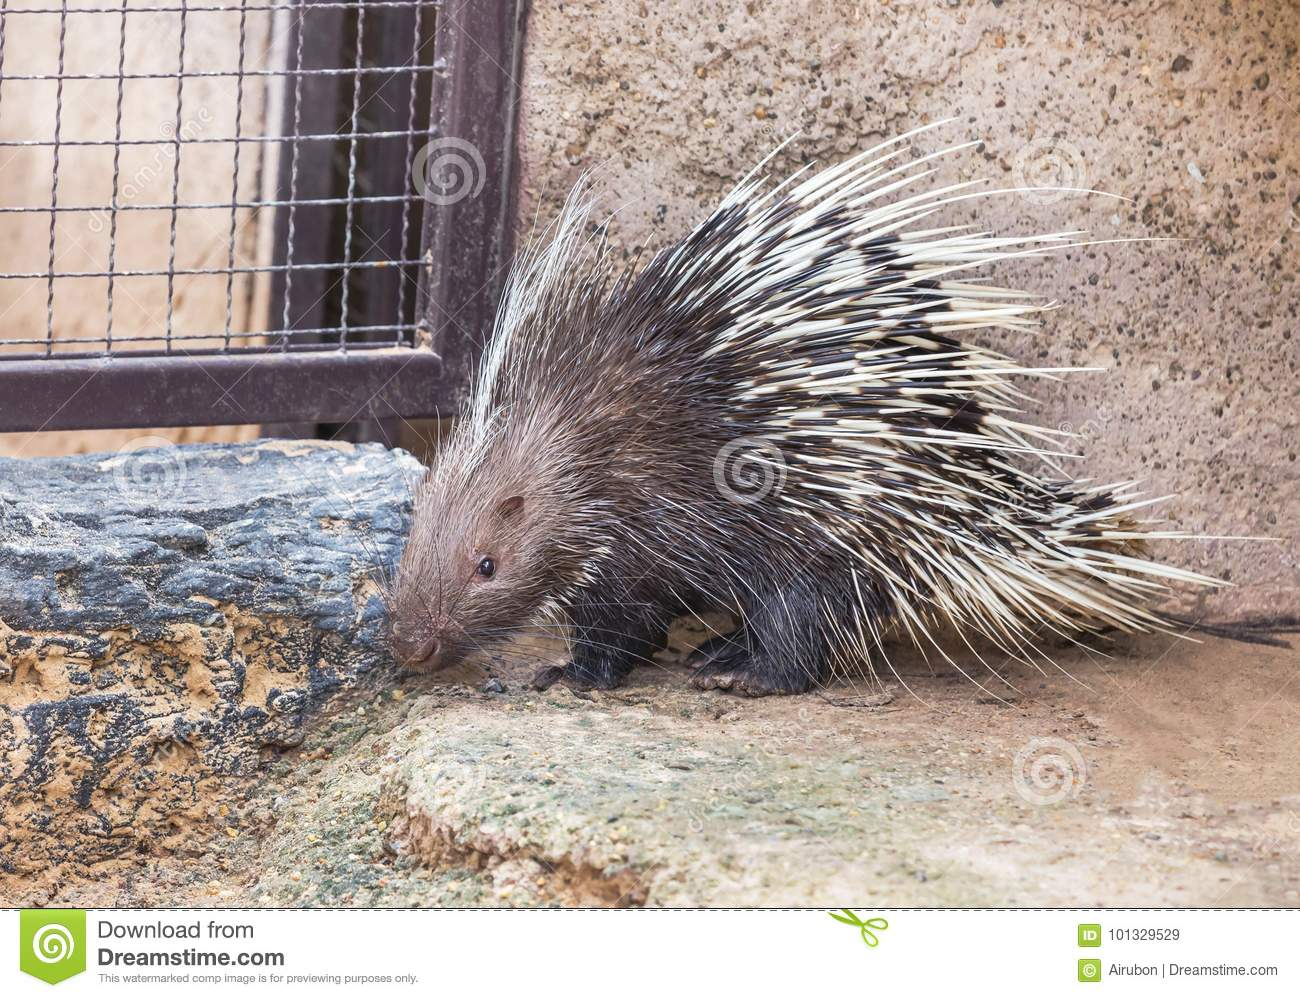porcupine: (357, 120, 1192, 706)
